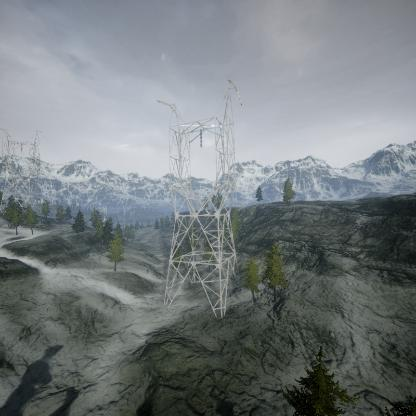tower: (152, 79, 248, 321)
